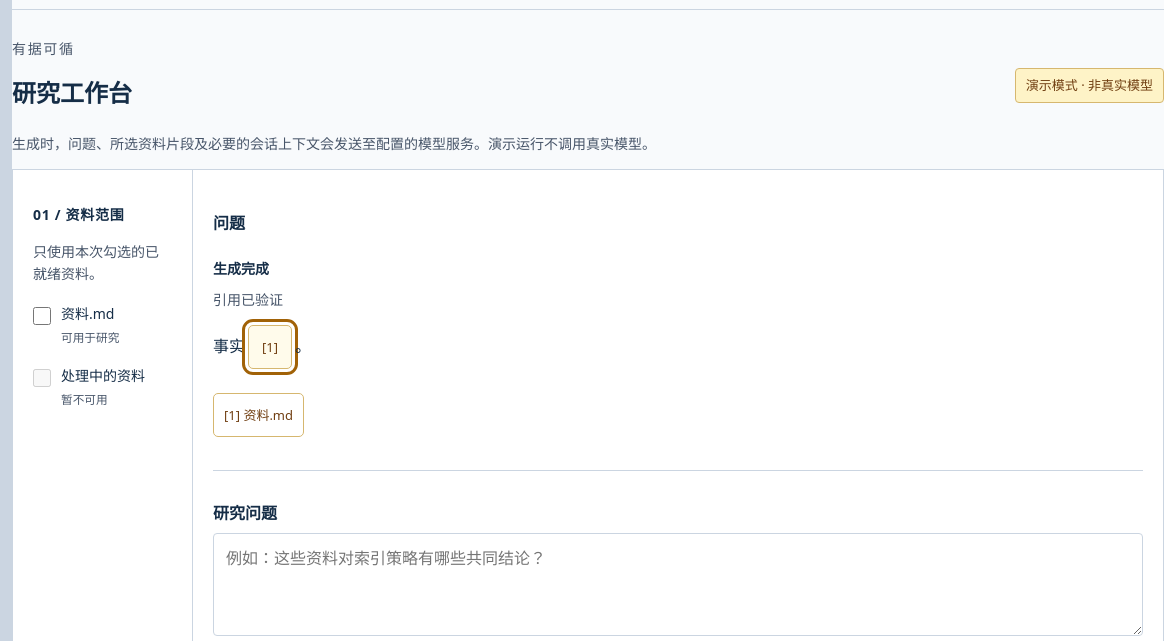
it: renders stable citation markers as keyboard accessible inline references
The image size is (1164, 641).
Click the button named "查看引用 1": click(270, 347) 248,325 -> 292,369
(page scrolled)
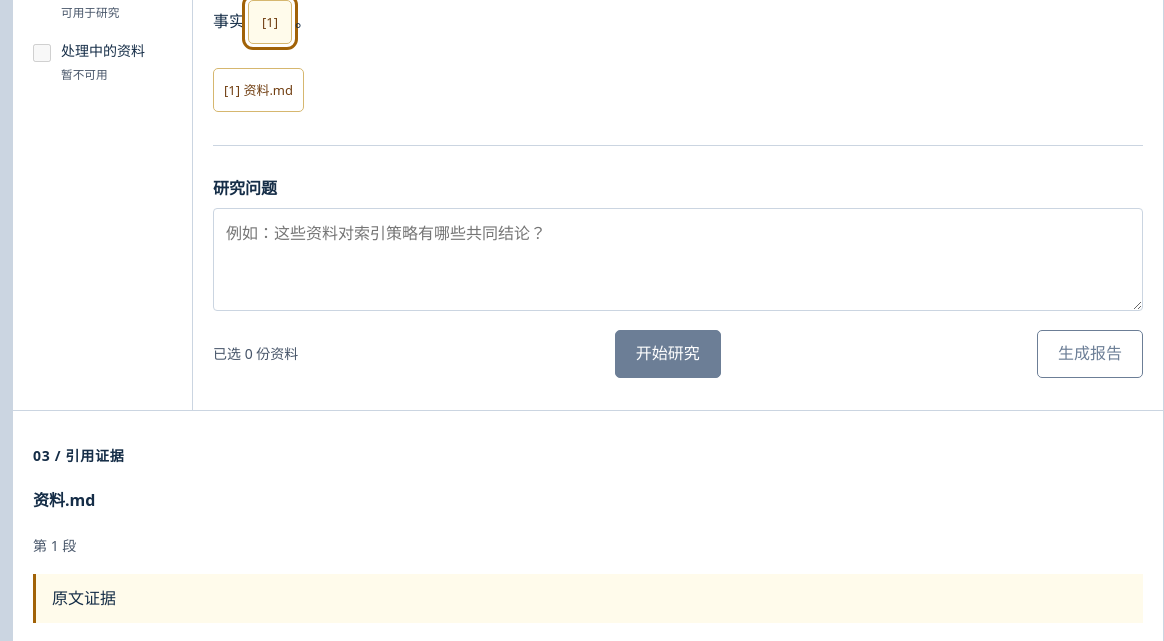
Expected: the text "原文证据" is shown, 33,574 -> 1143,623
